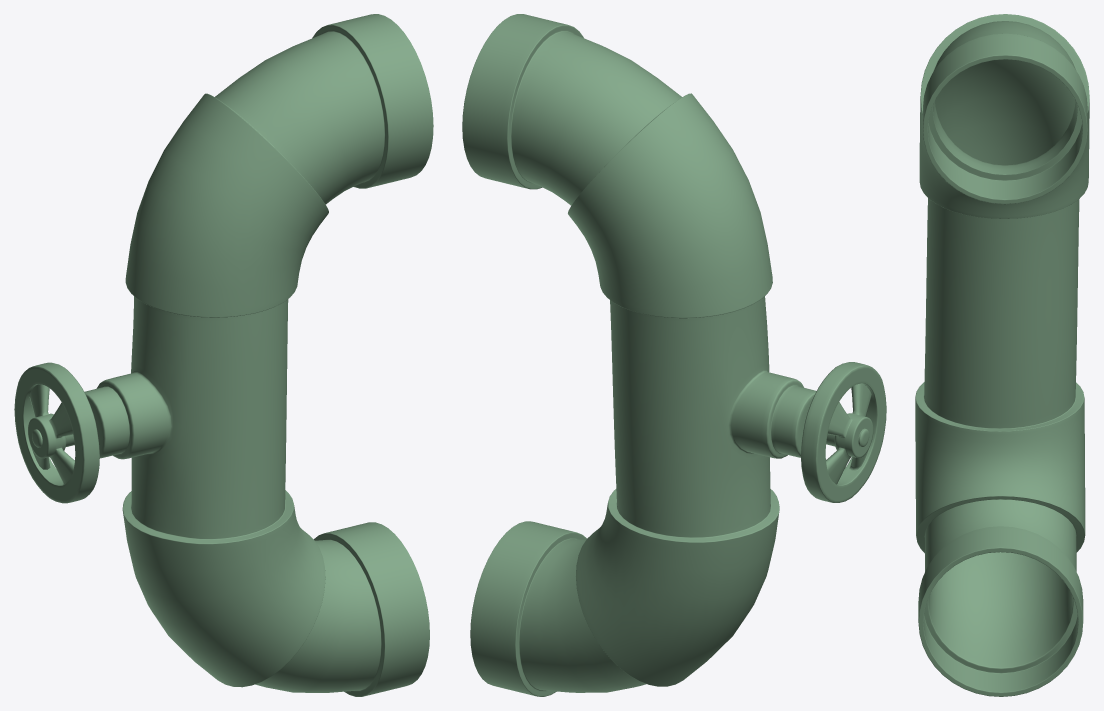
The model's file is ValvulaVerde.fbx.
3 views of the same model, side by side, from view 1: azimuth 30°, elevation 25°; view 2: azimuth 150°, elevation 25°; view 3: azimuth 270°, elevation 25° (orthographic). The views are drawn at different scales.
Visible parts, largest first — view 1: TuberiaPared, Manivela; view 2: TuberiaPared, Manivela; view 3: TuberiaPared.
Boxes of the visible parts, left/top/right/bottom form: TuberiaPared: left=65, top=14, right=433, bottom=696; Manivela: left=14, top=362, right=99, bottom=503; TuberiaPared: left=462, top=14, right=835, bottom=696; Manivela: left=801, top=362, right=886, bottom=502; TuberiaPared: left=915, top=14, right=1089, bottom=696.
Bounding box in the file's own units: 2.64 × 4.64 × 1.14.
